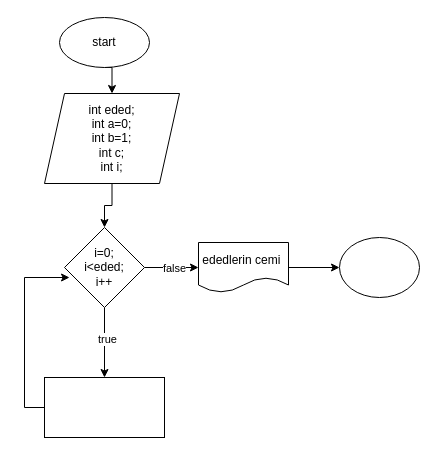
The diagram is 437 pixels wide and 455 high, and some of its shapes have lost their labels. The centre of each missing label's shape, as x and y in pixels:
a=b; b=c a+b=c: point 104,407
end: point 379,267
